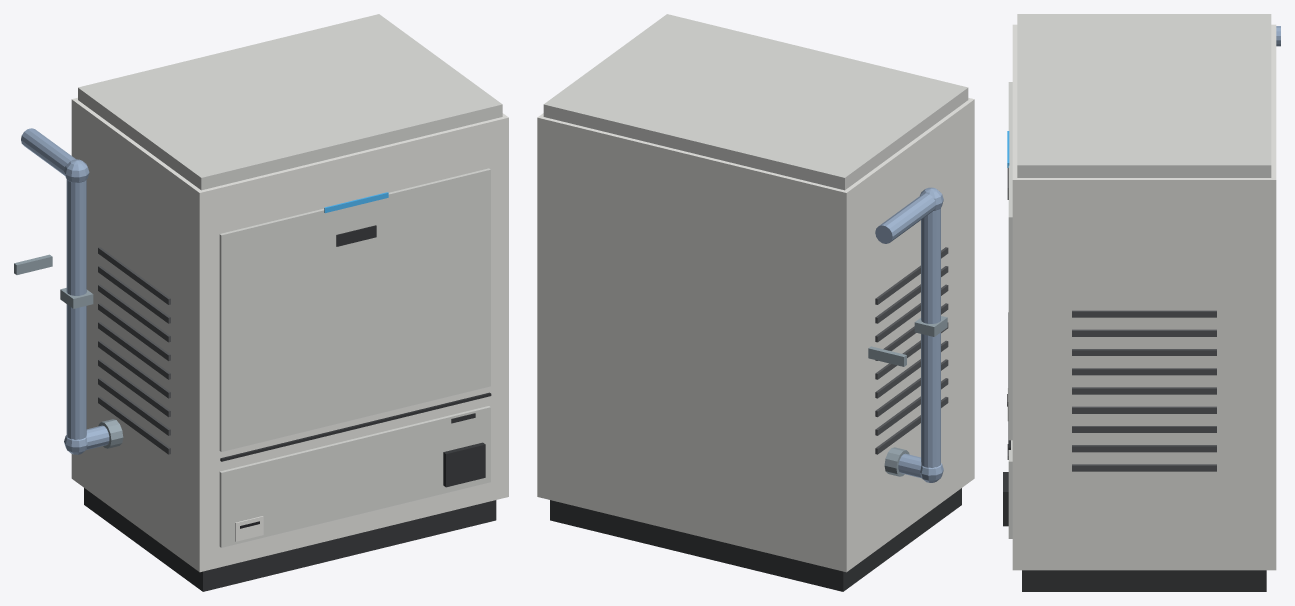
Rendered from base_core_battery.obj.
3 renders of one model, left to right at view 1: azimuth 30°, elevation 25°; view 2: azimuth 150°, elevation 25°; view 3: azimuth 270°, elevation 25°, orthographic. The views are drawn at different scales.
Size of the model in its own units: 0.93 by 1 by 0.589.
